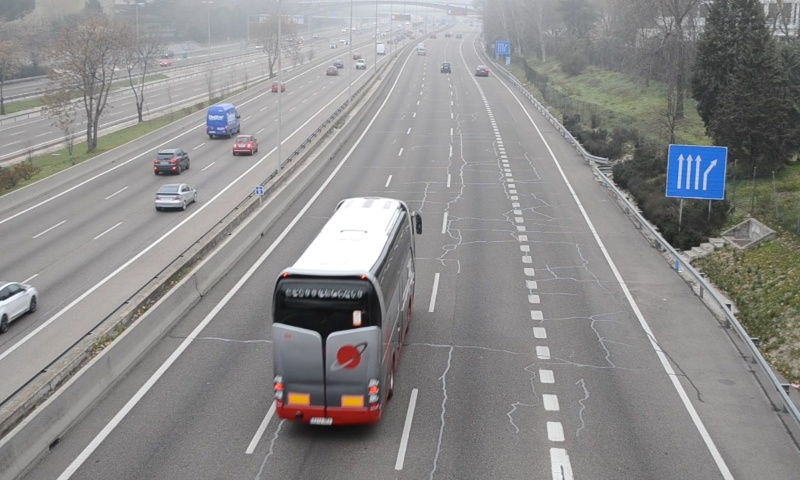bus: (270, 197, 413, 426)
car: (439, 61, 452, 75), (475, 65, 489, 78)
